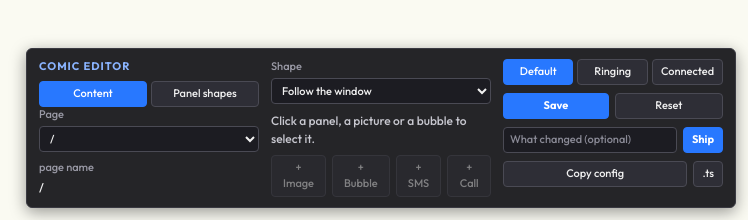
EditorToolbar › says so when Save cannot write the file, rather than falling silently back to a download
This screenshot has width=748, height=220.
Click the button "Save" at (556, 106), box [503,93,609,119]
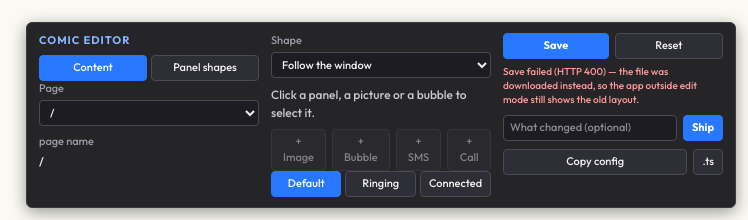
Check: the message shows "Save failed", box [503,65,557,78]
Check: the message shows "HTTP 400", box [557,65,603,78]
